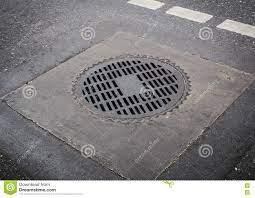open drainage-not overflowing-: (69, 52, 199, 128)
